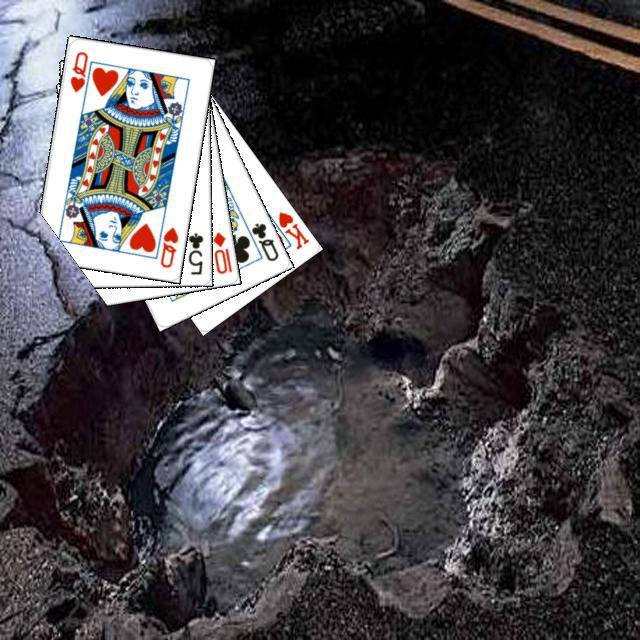10d: (208, 227, 233, 275)
5c: (183, 228, 204, 276)
Kh: (263, 207, 311, 251)
Qc: (240, 218, 280, 263)
Qh: (65, 47, 93, 100), (155, 222, 180, 270)
